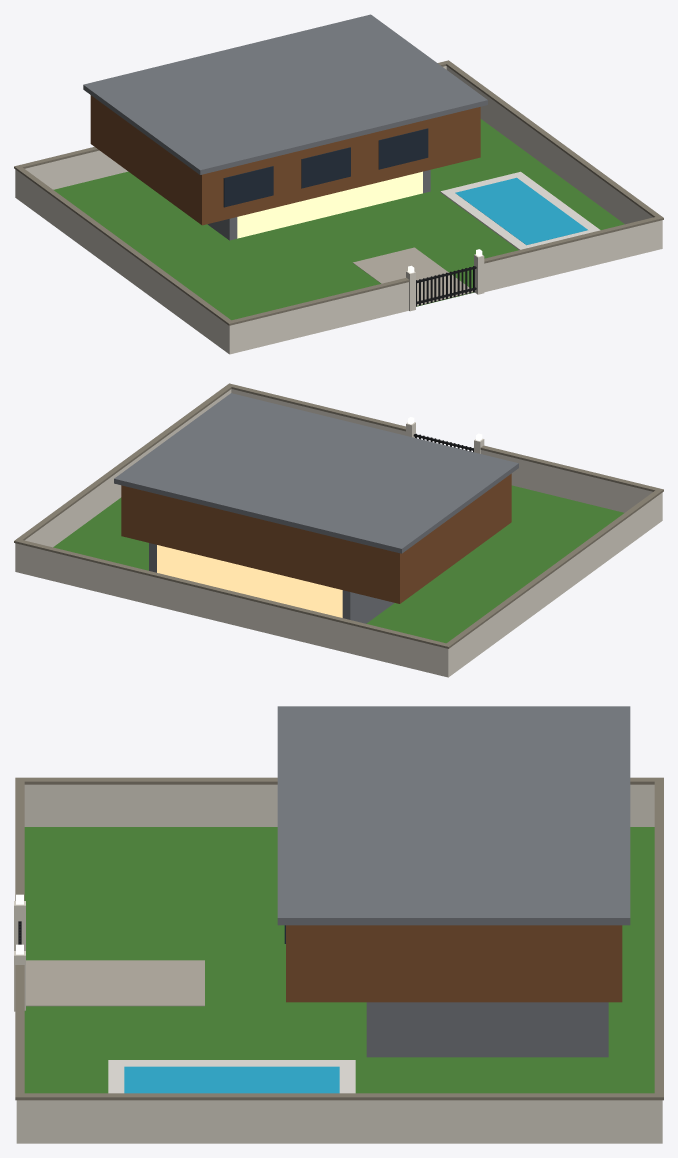
File: bld_lx_villa_c.glb
The picture shows the model from 3 angles, top to bottom: view 1: azimuth 30°, elevation 25°; view 2: azimuth 150°, elevation 25°; view 3: azimuth 270°, elevation 25°; orthographic projection. The views are drawn at different scales.
Parts seen in each view (by area): view 1: bld_lx_villa_c; view 2: bld_lx_villa_c; view 3: bld_lx_villa_c.
Boxes of the visible parts, bbox=[...] form: bld_lx_villa_c: bbox=[14, 14, 663, 354]; bld_lx_villa_c: bbox=[14, 383, 663, 677]; bld_lx_villa_c: bbox=[14, 706, 663, 1143].
Size of what is drawn, in the model's own units: 28.1 by 6.6 by 24.15.
